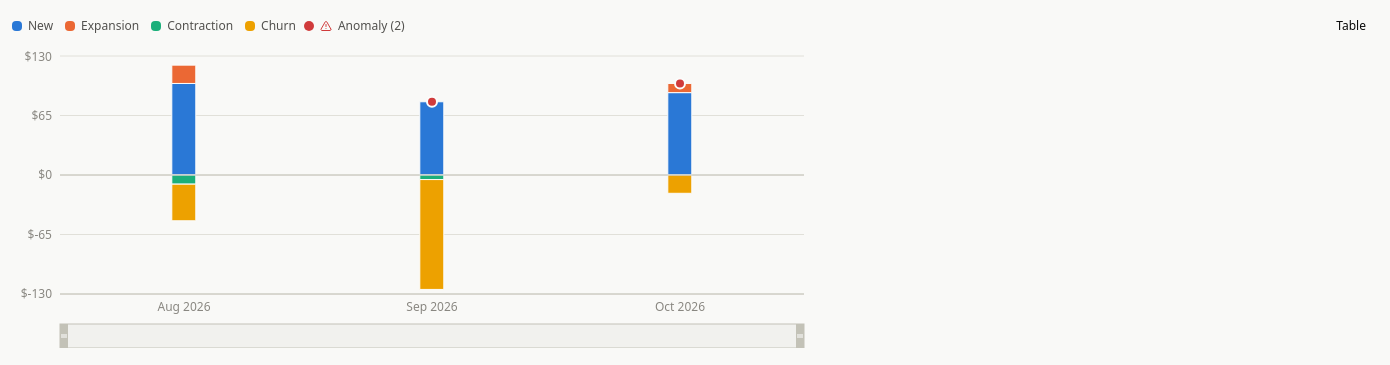
Test: TimeSeriesChart with plotted measures › stacks signed bars around a zero line and marks flagged points
Expected: the text "Anomaly (2)" is shown, [304,18,405,34]
Click the button "Table" at (1351, 26), box [1324,12,1378,40]
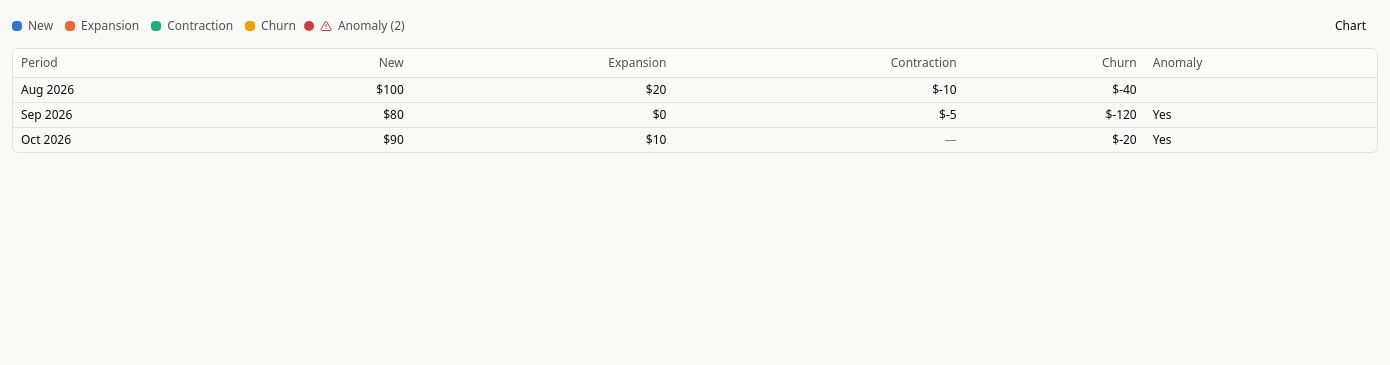
Now the column heading "Anomaly" is shown, box [1145,49,1377,78]
Now the text "Yes" is shown 2 times, box [1145,102,1377,128]; [1145,128,1377,152]
Now the text "$-120" is shown, box [965,102,1145,128]
